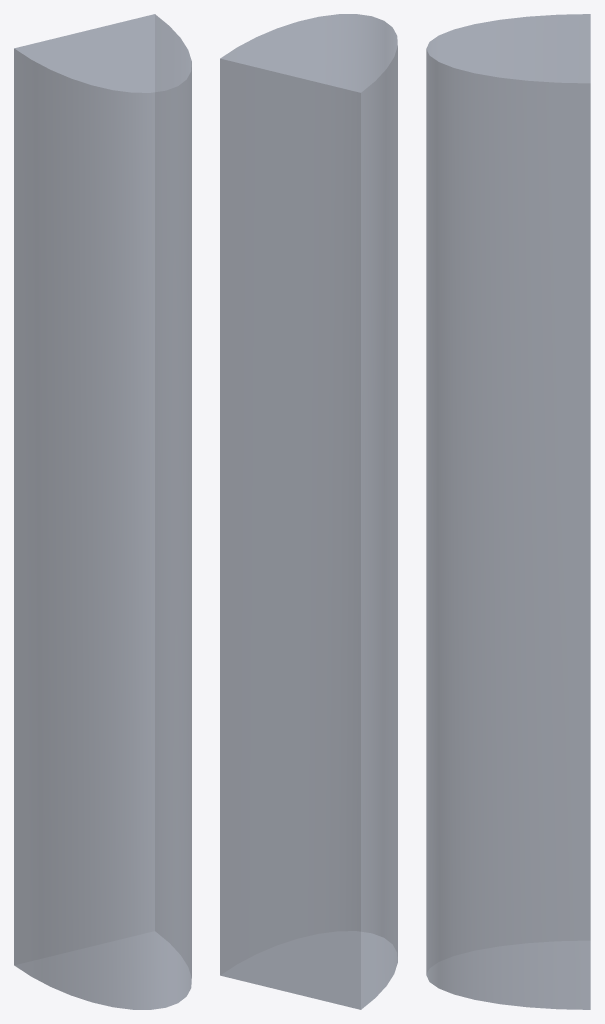
Rendered from pillar-semicircle-lite.glb.
The picture shows the model from 3 angles, left to right: view 1: azimuth 30°, elevation 25°; view 2: azimuth 150°, elevation 25°; view 3: azimuth 270°, elevation 25°; orthographic projection.
Visible parts, largest first — view 1: pillar-semicircle; view 2: pillar-semicircle; view 3: pillar-semicircle.
Boxes of the visible parts, x1,y1,x2,y2 form: pillar-semicircle: [14, 14, 191, 1009]; pillar-semicircle: [220, 14, 397, 1009]; pillar-semicircle: [426, 14, 590, 1009].
Size of the model in its own units: 0.45 by 2.8 by 0.45.
